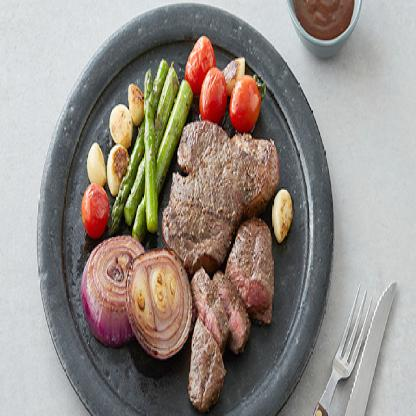Carne: (168, 113, 274, 252), (226, 219, 271, 310), (191, 324, 226, 414), (217, 271, 246, 355), (192, 268, 224, 344)
